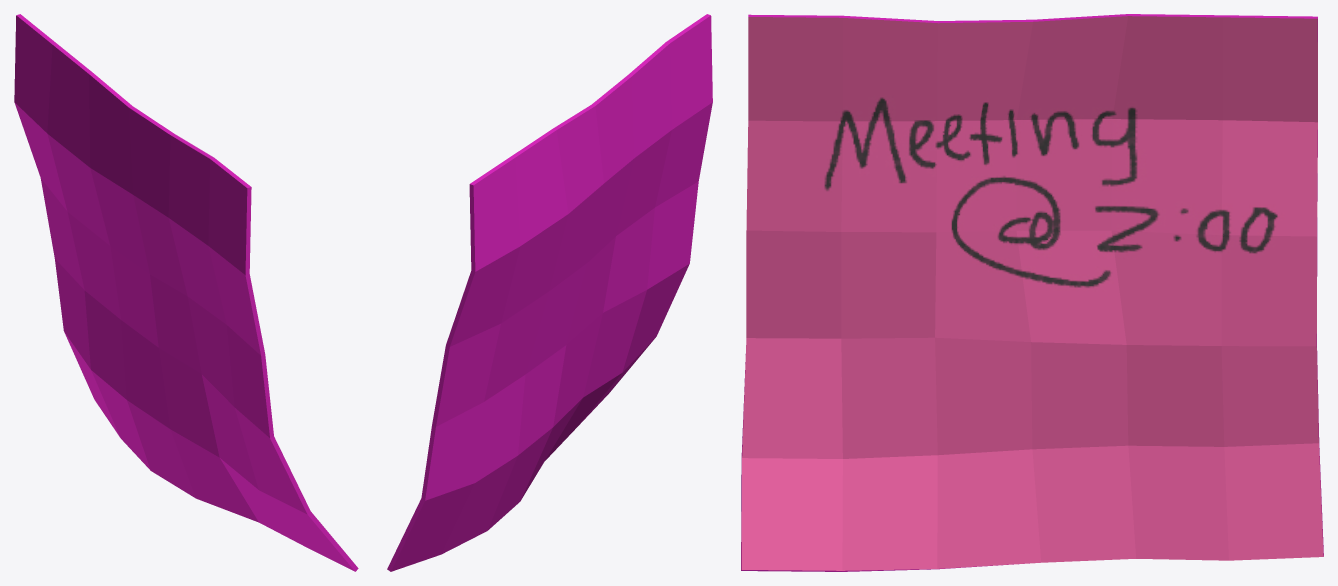
File: StickyNote.fbx
3 views of the same model, side by side, from view 1: azimuth 30°, elevation 25°; view 2: azimuth 150°, elevation 25°; view 3: azimuth 270°, elevation 25° (orthographic). The views are drawn at different scales.
Parts seen in each view (by area): view 1: Cube; view 2: Cube; view 3: Cube.
Boxes of the visible parts, bbox=[...] form: Cube: bbox=[14, 14, 358, 571]; Cube: bbox=[387, 14, 712, 571]; Cube: bbox=[741, 14, 1323, 571].
Bounding box in the file's own units: 32.5 × 112 × 117.
